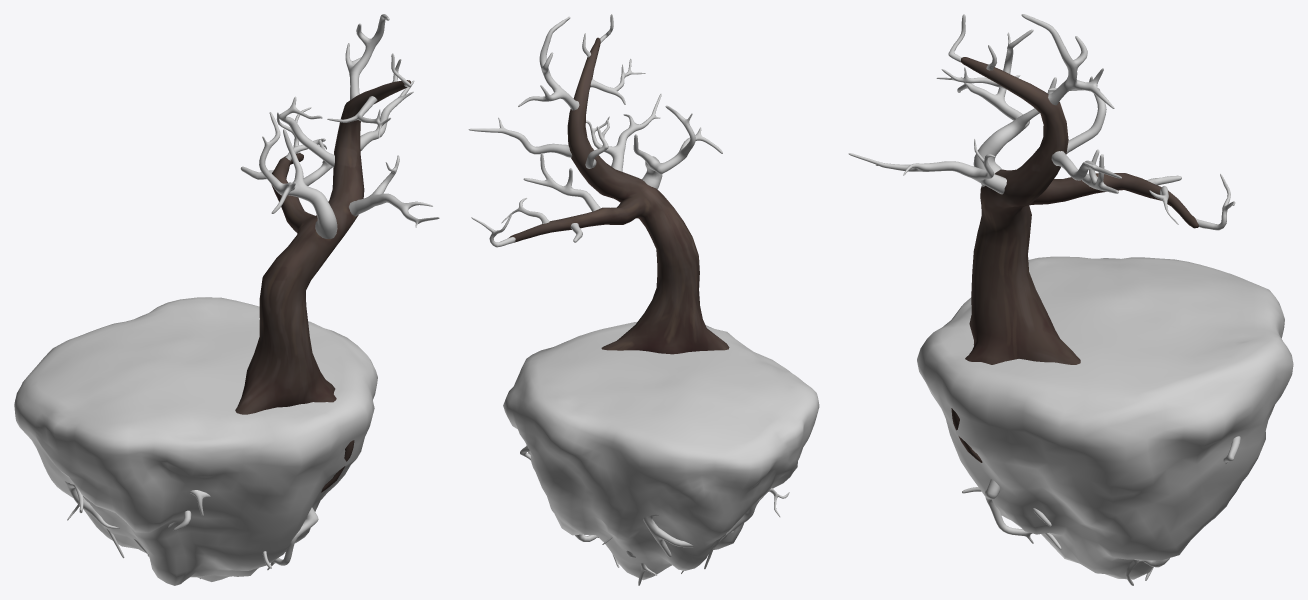
Rendered from Full Tree Island.FBX.
The picture shows the model from 3 angles, left to right: view 1: azimuth 30°, elevation 25°; view 2: azimuth 150°, elevation 25°; view 3: azimuth 270°, elevation 25°; orthographic projection. The views are drawn at different scales.
Visible parts, largest first — view 1: Island_Zbrush_Low, Tree Low, Low Branch Roots2; view 2: Island_Zbrush_Low, Tree Low, Low Branch Roots, Low Branch Roots2; view 3: Island_Zbrush_Low, Tree Low, Low Branch Roots2.
Part boxes in pixels (x1,y1,x2,y2): Island_Zbrush_Low: [14, 297, 377, 585]; Tree Low: [235, 14, 439, 492]; Low Branch Roots2: [64, 481, 318, 578]; Island_Zbrush_Low: [503, 321, 819, 580]; Tree Low: [468, 14, 729, 354]; Low Branch Roots: [575, 514, 693, 567]; Low Branch Roots2: [520, 446, 789, 585]; Island_Zbrush_Low: [917, 256, 1293, 579]; Tree Low: [848, 14, 1235, 462]; Low Branch Roots2: [962, 436, 1240, 580].
Size of the model in its own units: 1.15 by 1.69 by 1.07.
